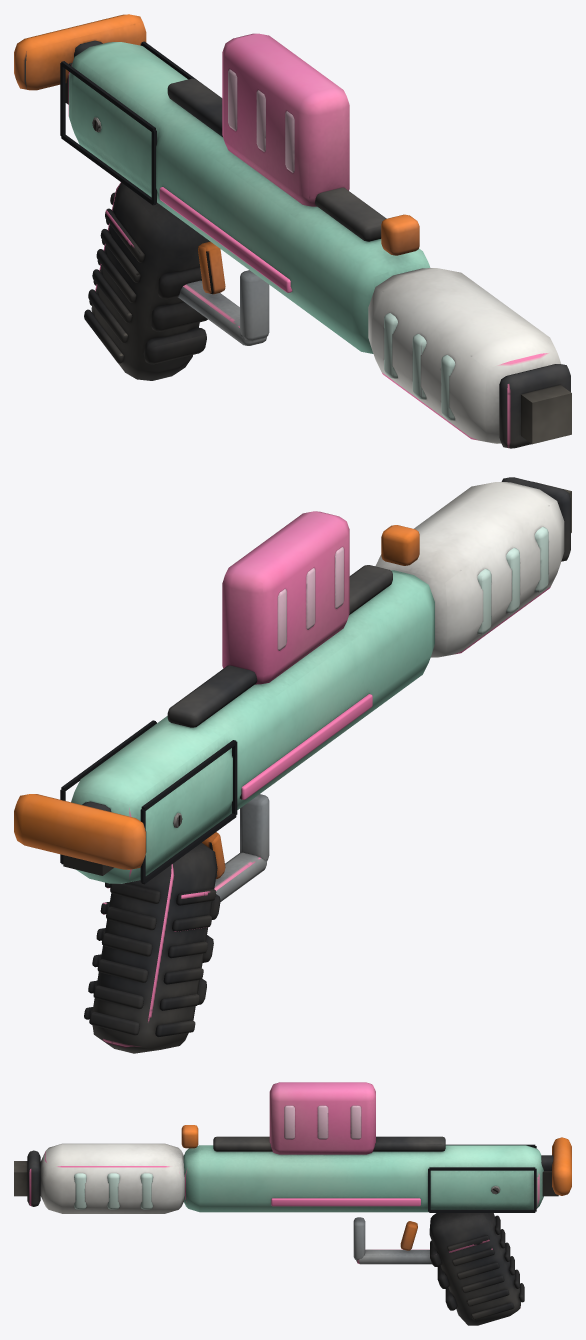
File: dart_blaster.fbx
The picture shows the model from 3 angles, top to bottom: view 1: azimuth 30°, elevation 25°; view 2: azimuth 150°, elevation 25°; view 3: azimuth 270°, elevation 25°; orthographic projection. The views are drawn at different scales.
Parts seen in each view (by area): view 1: Handle, Mag, Muzzle, Glow; view 2: Handle, Mag, Glow; view 3: Handle, Mag, Glow, Muzzle.
Part boxes in pixels (box(x1,y1,x2,y2)): Handle: box(14, 14, 570, 448); Mag: box(222, 33, 349, 206); Muzzle: box(521, 385, 571, 444); Glow: box(159, 187, 292, 292); Handle: box(14, 477, 570, 1053); Mag: box(222, 511, 349, 684); Glow: box(240, 694, 372, 799); Handle: box(27, 1125, 571, 1325); Mag: box(269, 1082, 375, 1154); Glow: box(271, 1198, 420, 1206); Muzzle: box(14, 1161, 27, 1196).
Bounding box in the file's own units: 0.26 × 0.7862 × 1.68.
1 material, 1 textured.
